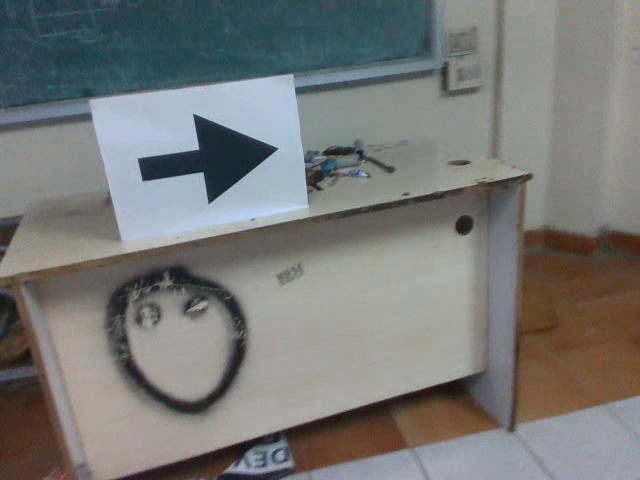Right: (120, 104, 282, 208)
